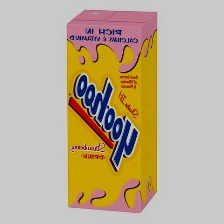carton: (61, 6, 166, 215)
